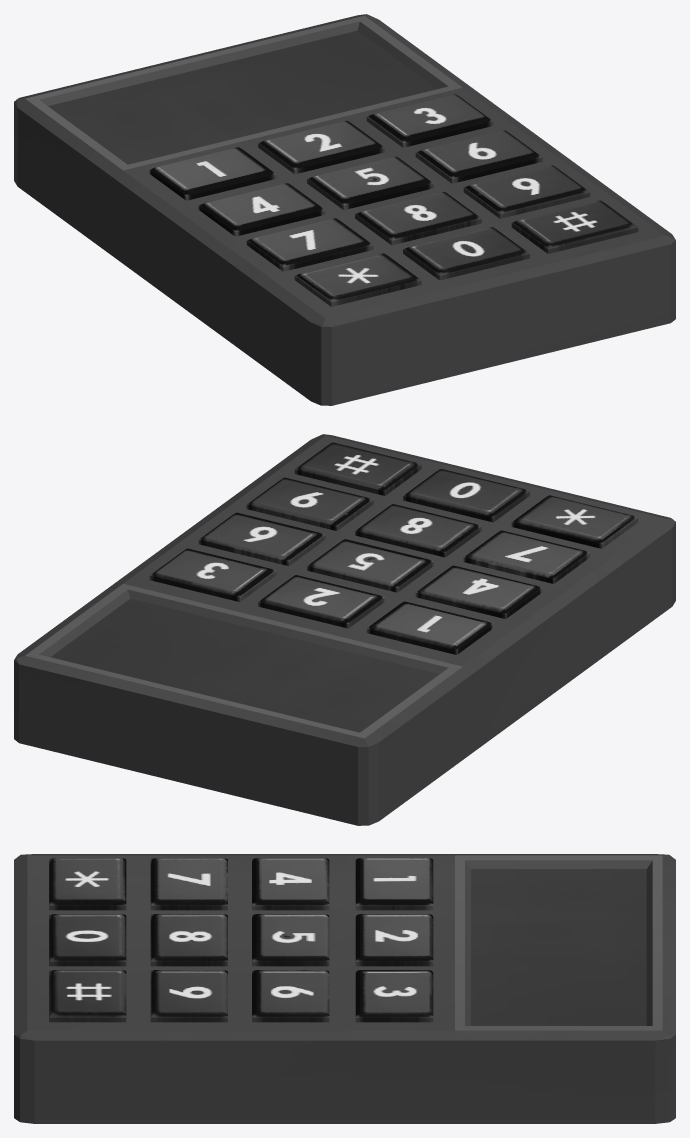
Rendered from Num_Pad.glb.
3 views of the same model, one above another, from view 1: azimuth 30°, elevation 25°; view 2: azimuth 150°, elevation 25°; view 3: azimuth 270°, elevation 25° (orthographic). The views are drawn at different scales.
Parts seen in each view (by area): view 1: Base, Button_4, Button_6, Button_Asterisk, Button_Numeral, Button_9, Button_1, Button_3, Button_7, Button_8, Button_2, Button_0 (+1 smaller); view 2: Base, Button_9, Button_6, Button_Numeral, Button_4, Button_1, Button_3, Button_Asterisk, Button_7, Button_2, Button_0, Button_8 (+1 smaller); view 3: Base, Button_2, Button_3, Button_1, Button_9, Button_Asterisk, Button_0, Button_Numeral, Button_7, Button_8, Button_4, Button_5 (+1 smaller).
Boxes of the visible parts, left/top/right/bottom form: Base: left=14, top=14, right=675, bottom=405; Button_4: left=198, top=183, right=325, bottom=236; Button_6: left=415, top=130, right=542, bottom=183; Button_Asterisk: left=294, top=253, right=421, bottom=306; Button_Numeral: left=511, top=200, right=638, bottom=253; Button_9: left=463, top=165, right=590, bottom=218; Button_1: left=149, top=147, right=276, bottom=200; Button_3: left=366, top=94, right=493, bottom=147; Button_7: left=246, top=218, right=373, bottom=271; Button_8: left=355, top=191, right=481, bottom=245; Button_2: left=258, top=120, right=384, bottom=174; Button_0: left=403, top=227, right=529, bottom=280; Base: left=14, top=434, right=675, bottom=825; Button_9: left=246, top=477, right=373, bottom=530; Button_6: left=198, top=512, right=325, bottom=566; Button_Numeral: left=294, top=442, right=421, bottom=495; Button_4: left=415, top=565, right=542, bottom=618; Button_1: left=366, top=601, right=493, bottom=654; Button_3: left=149, top=548, right=276, bottom=601; Button_Asterisk: left=511, top=495, right=638, bottom=548; Button_7: left=463, top=530, right=590, bottom=583; Button_2: left=258, top=575, right=384, bottom=628; Button_0: left=403, top=469, right=529, bottom=522; Button_8: left=355, top=504, right=481, bottom=557; Base: left=14, top=854, right=675, bottom=1123; Button_2: left=355, top=914, right=433, bottom=966; Button_3: left=355, top=970, right=433, bottom=1022; Button_1: left=355, top=858, right=433, bottom=910; Button_9: left=150, top=970, right=227, bottom=1022; Button_Asterisk: left=49, top=858, right=126, bottom=910; Button_0: left=49, top=914, right=126, bottom=966; Button_Numeral: left=49, top=970, right=126, bottom=1022; Button_7: left=150, top=858, right=227, bottom=910; Button_8: left=150, top=914, right=227, bottom=966; Button_4: left=252, top=858, right=329, bottom=910; Button_5: left=252, top=914, right=329, bottom=966.
Size of the model in its own units: 0.2 by 0.0476 by 0.3.
1 material, 1 textured.
